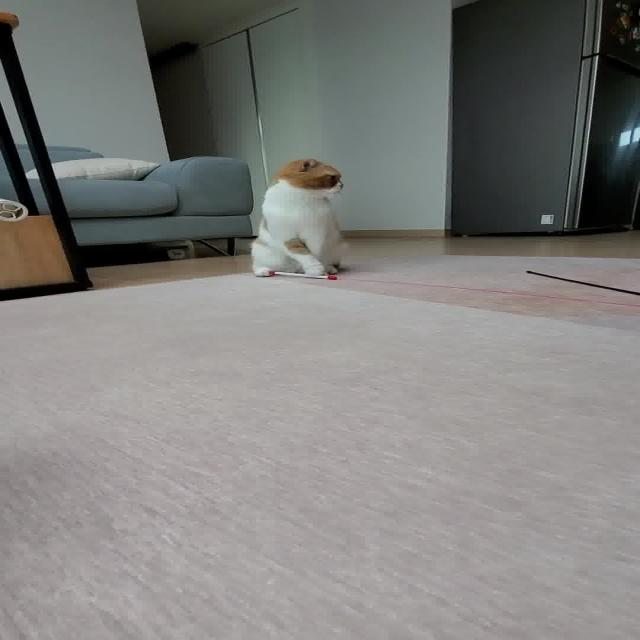cat: (220, 142, 388, 288)
